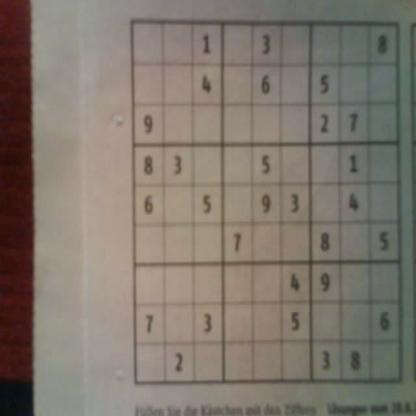sudoku: (126, 15, 409, 391)
